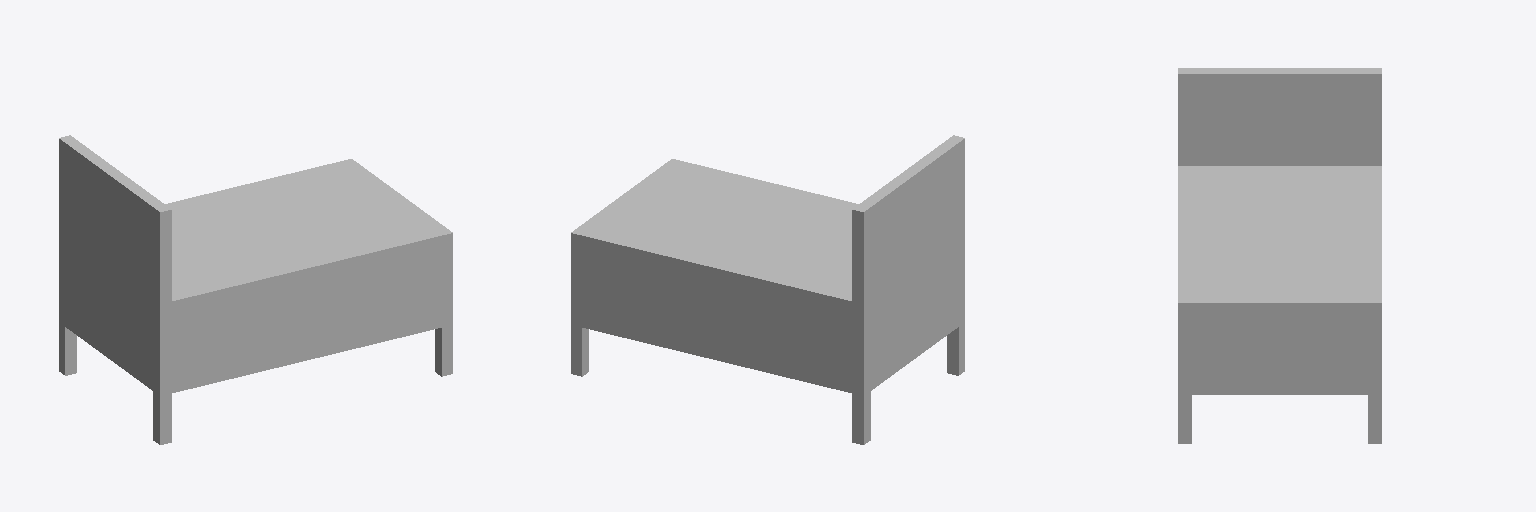
The model's file is bed.obj.
3 views of the same model, side by side, from view 1: azimuth 30°, elevation 25°; view 2: azimuth 150°, elevation 25°; view 3: azimuth 270°, elevation 25° (orthographic).
Visible parts, largest first — view 1: object 1; view 2: object 1; view 3: object 1.
Boxes of the visible parts, <box> form: object 1: <box>59,135,452,444</box>; object 1: <box>571,135,964,444</box>; object 1: <box>1178,68,1381,443</box>.
Size of the model in its own units: 5 by 3.8 by 3.